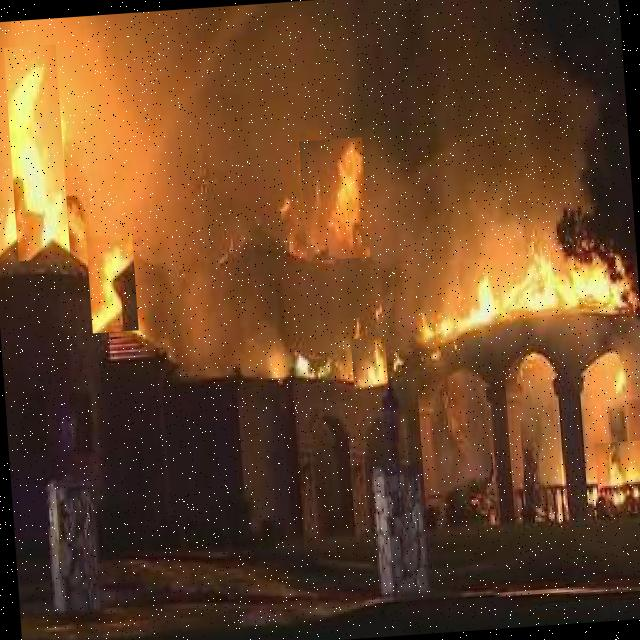fire: (391, 246, 640, 348), (3, 44, 70, 261), (298, 137, 369, 260), (85, 233, 138, 333), (594, 440, 640, 515), (350, 336, 388, 391), (607, 364, 632, 402)
